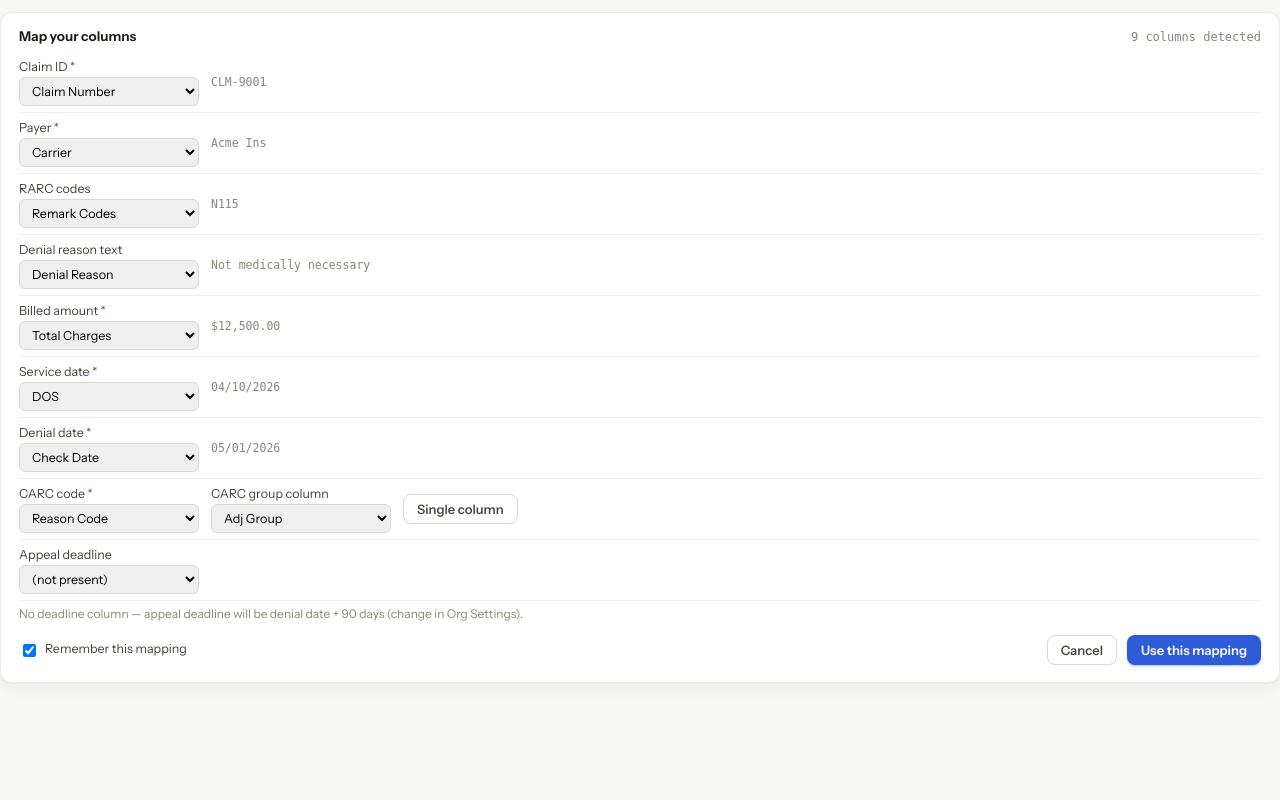
it: carc toggle switches between single and group+code
The width and height of the screenshot is (1280, 800).
Expected: the dropdown labelled "CARC group column" shows "Adj Group", x1=211 y1=504 x2=391 y2=532
Click the button "Single column": (460, 509) x1=403 y1=494 x2=518 y2=524
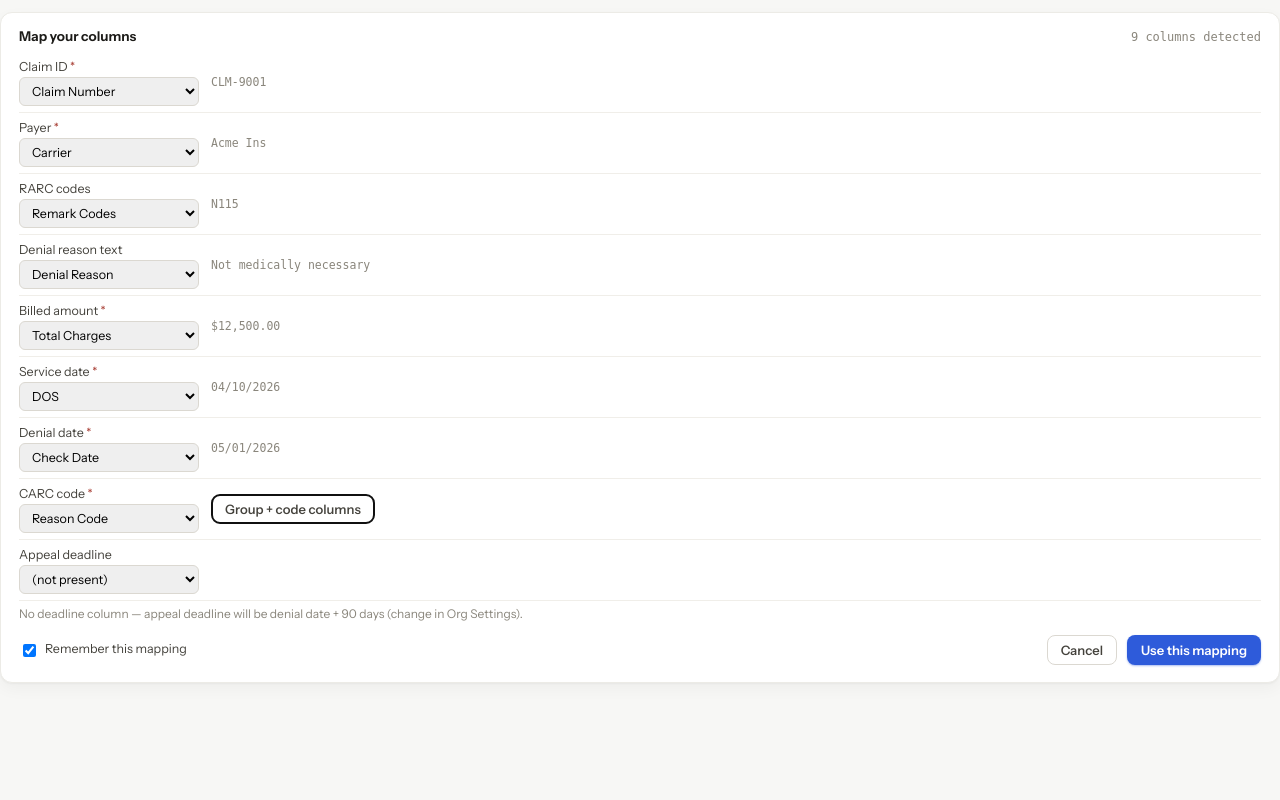
Expected: the label labelled "CARC group column" is gone
